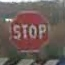stop: (7, 8, 50, 53)
